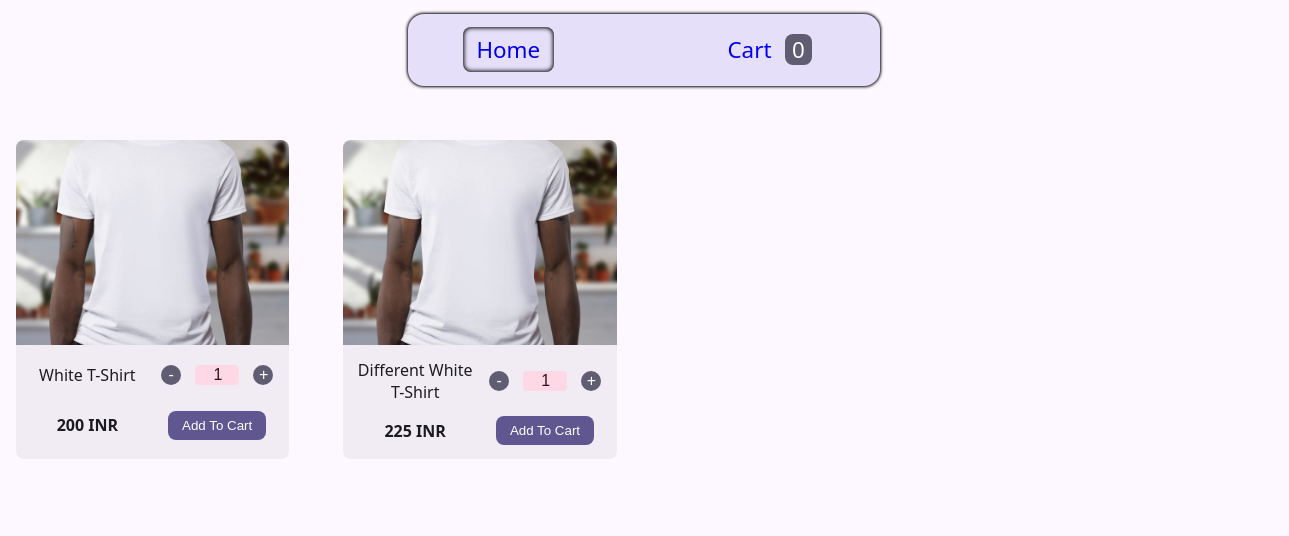
Test: App › clears cart when checkout is clicked
The width and height of the screenshot is (1289, 536).
What coordinates should you click on to do the following:
click the button "Add To Cart" in the row of "200"
I would click on:
 (217, 425)
Its box is [168,411,266,440].
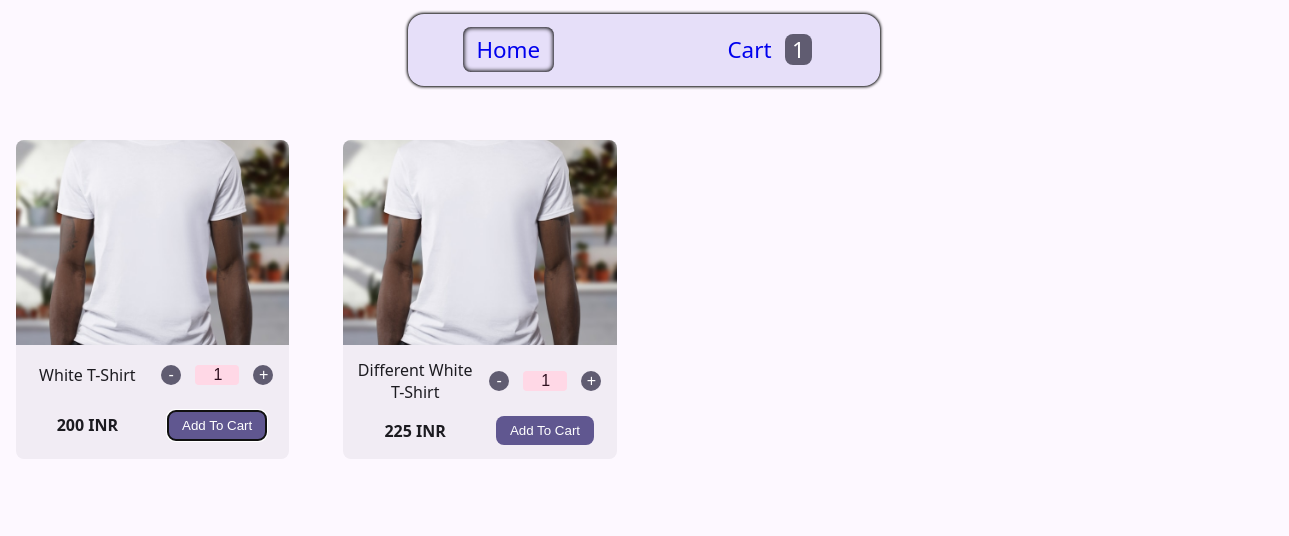
What coordinates should you click on to do the following:
click the link "Cart1"
I would click on:
 (770, 50)
Its box is [727,34,812,65].
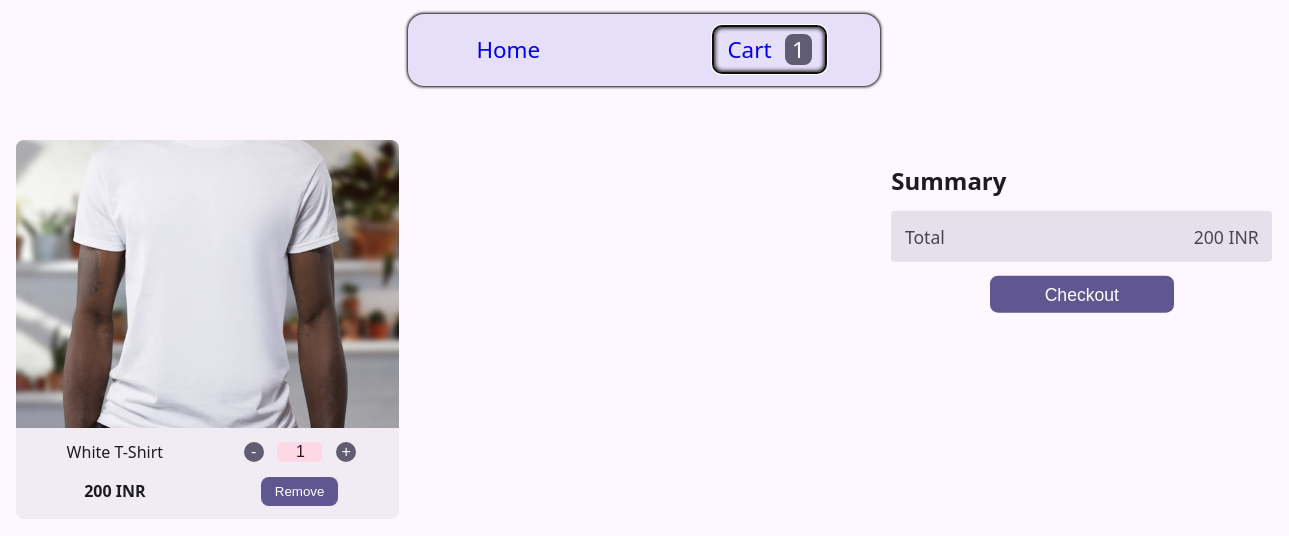
What coordinates should you click on to do the following:
click the button "Checkout"
I would click on:
 (1082, 294)
Its box is [990,276,1174,313].
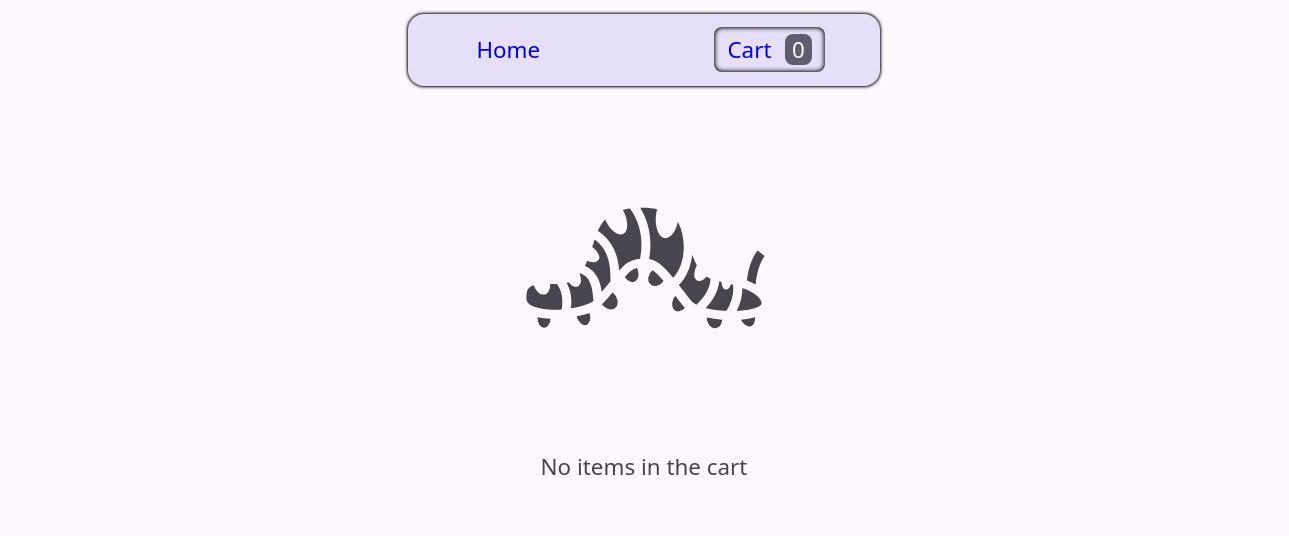
Result: the text "No items in the cart" is shown at [541,451,747,482]
